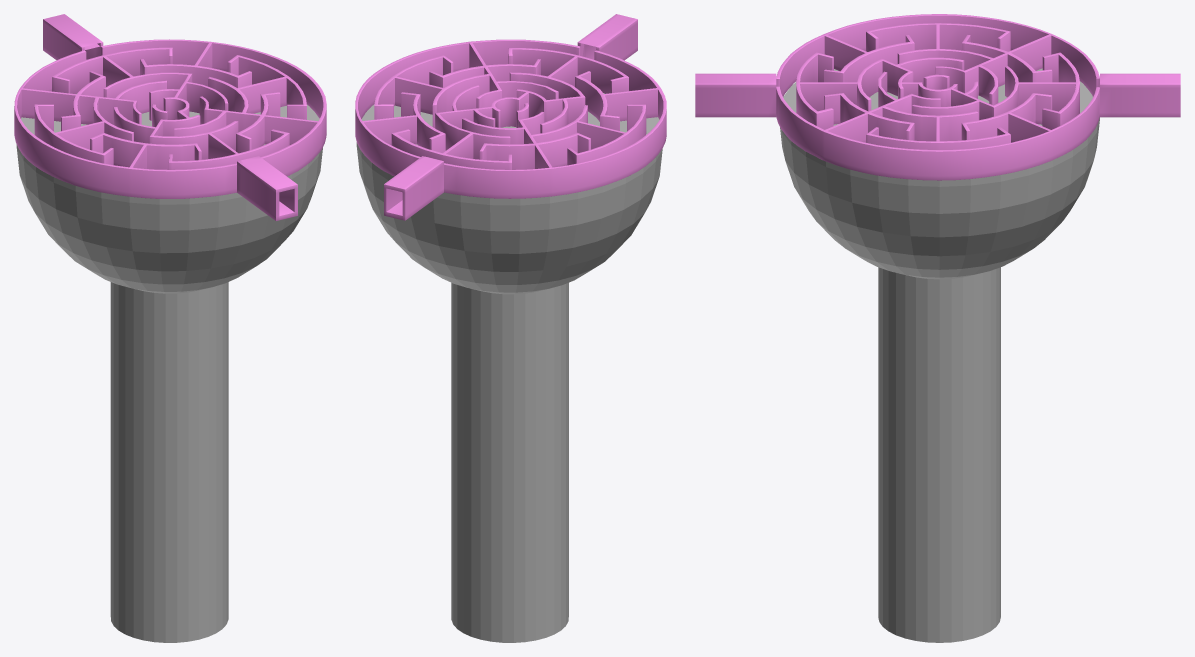
The model's file is Segap 01 12 Menu Maze.fbx.
3 renders of one model, left to right at view 1: azimuth 30°, elevation 25°; view 2: azimuth 150°, elevation 25°; view 3: azimuth 270°, elevation 25°, orthographic. The views are drawn at different scales.
Visible parts, largest first — view 1: Sphere.012, Plane.025; view 2: Sphere.012, Plane.025; view 3: Sphere.012, Plane.025.
Part boxes in pixels (x1=…): Sphere.012: x1=16, y1=93, x2=322, y2=642; Plane.025: x1=14, y1=14, x2=326, y2=220; Sphere.012: x1=356, y1=93, x2=662, y2=642; Plane.025: x1=355, y1=14, x2=666, y2=220; Sphere.012: x1=780, y1=68, x2=1099, y2=642; Plane.025: x1=695, y1=14, x2=1180, y2=180.
Bounding box in the file's own units: 4059 × 7550 × 6050.
